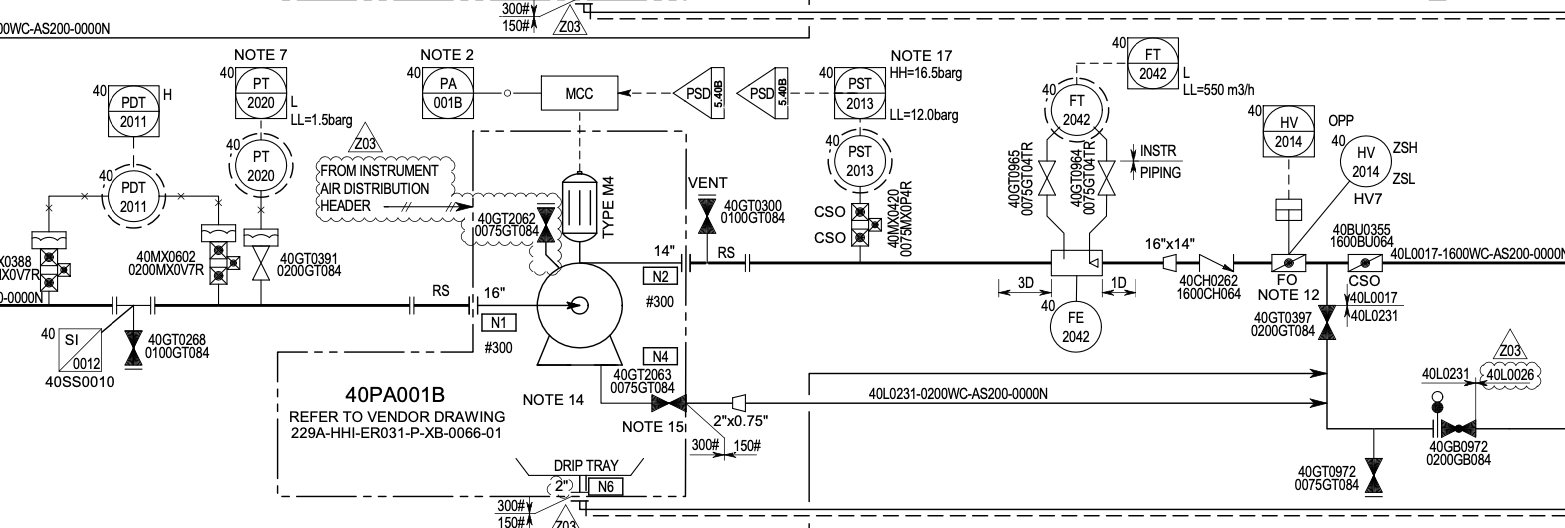Instrument: (223, 135, 290, 192), (1039, 296, 1102, 355), (92, 167, 162, 220), (1040, 79, 1103, 136), (825, 133, 889, 188), (1330, 131, 1392, 187)
Instrument-square: (1237, 99, 1318, 162), (814, 64, 892, 124), (396, 64, 477, 121), (223, 60, 290, 123), (93, 82, 162, 139), (1113, 36, 1182, 92)
